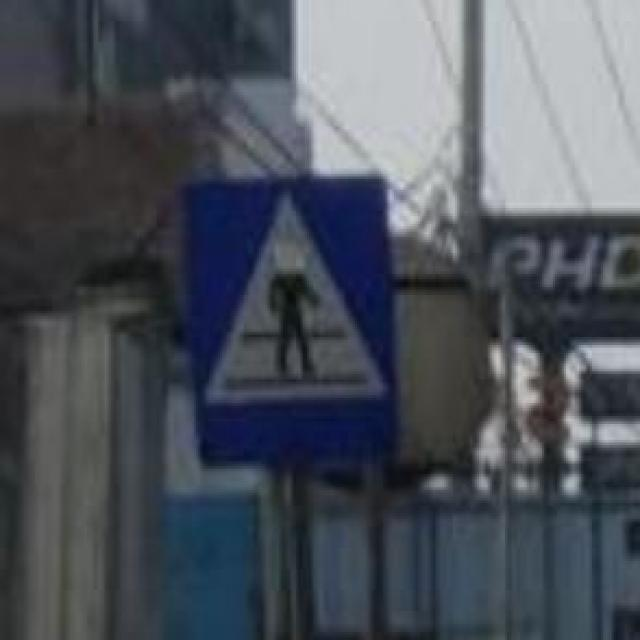traffic sign: (185, 179, 398, 466)
